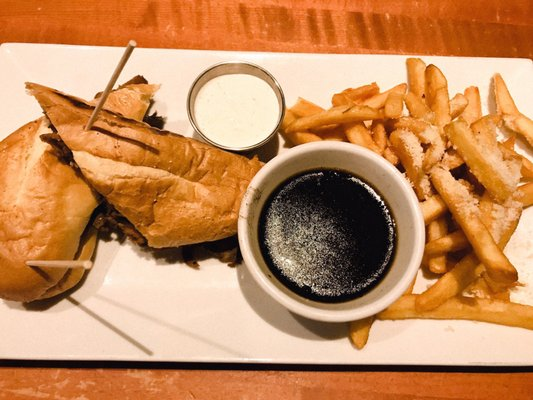soup: (13, 79, 263, 272), (0, 115, 101, 307)
sushi: (236, 140, 427, 325), (186, 62, 286, 159)
